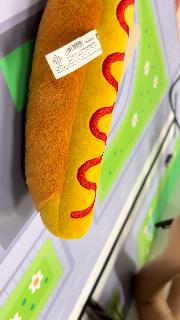hotdog: (24, 1, 136, 241)
